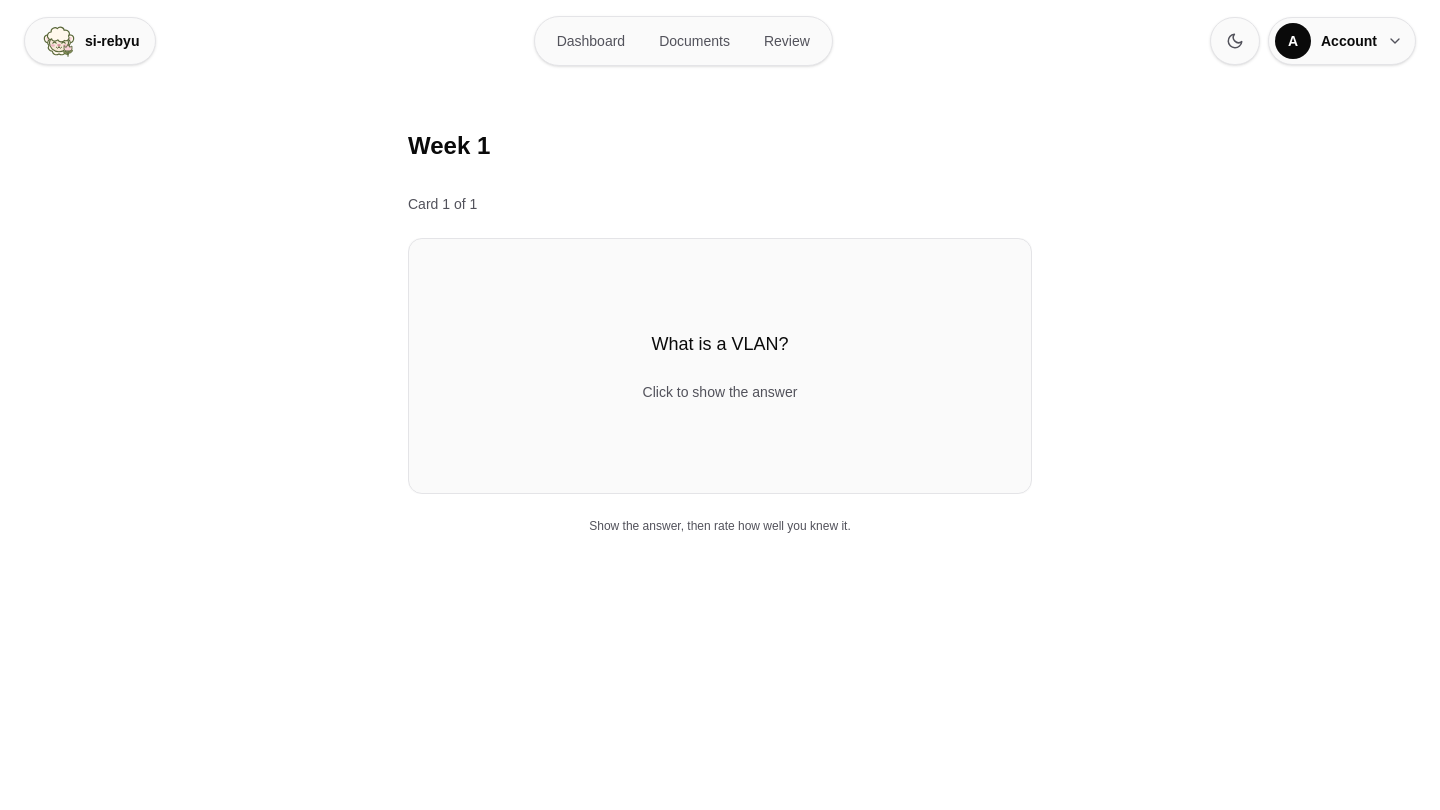
Test: FlashcardSession: the finished-session button also respects doneLabel › shows the given label instead of the default
Click the text "What is a VLAN?" at (720,344), box [652, 334, 789, 354]
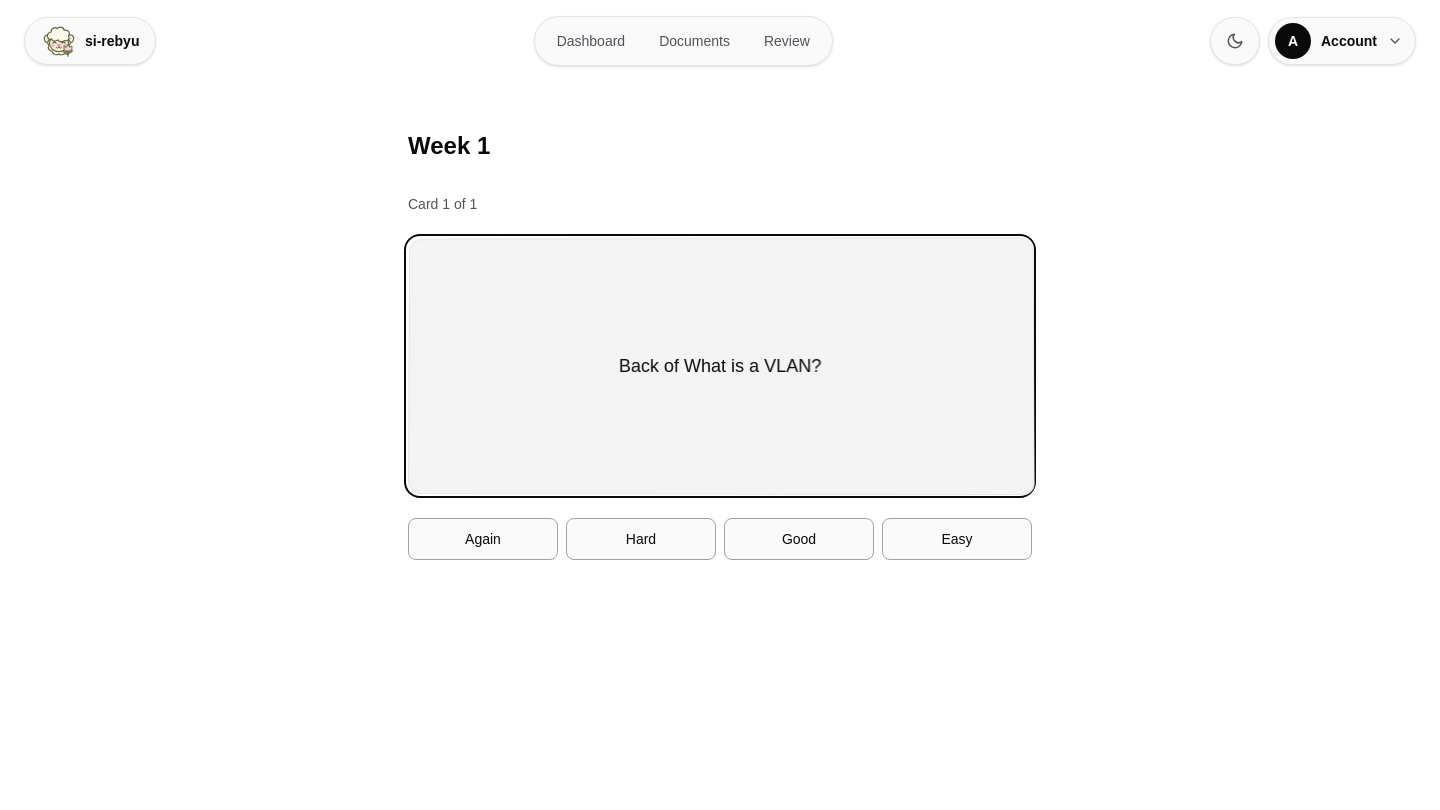
Click the button "Good" at (799,539), box [724, 518, 874, 560]
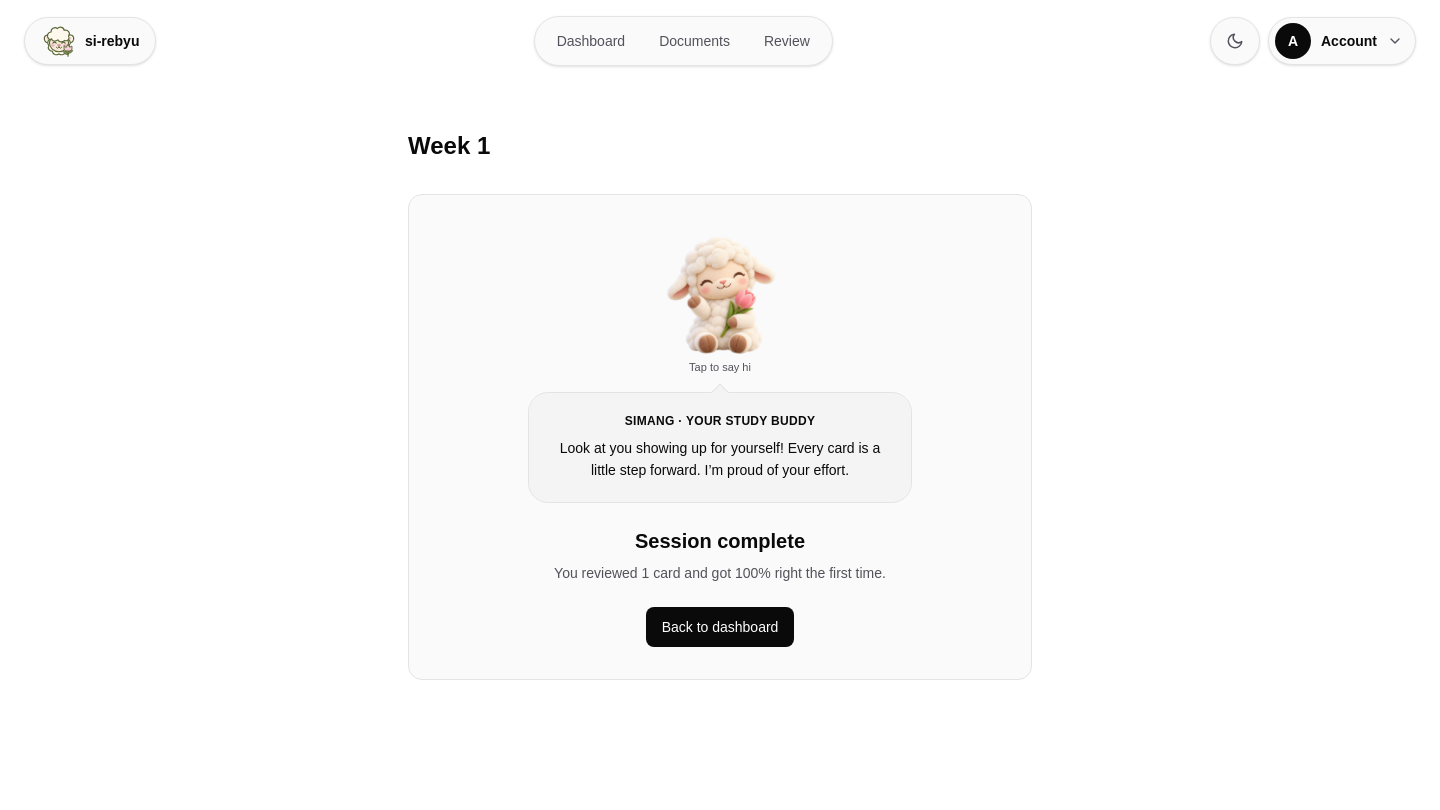
Expected: the button "Back to dashboard" is shown, [646, 607, 794, 647]
